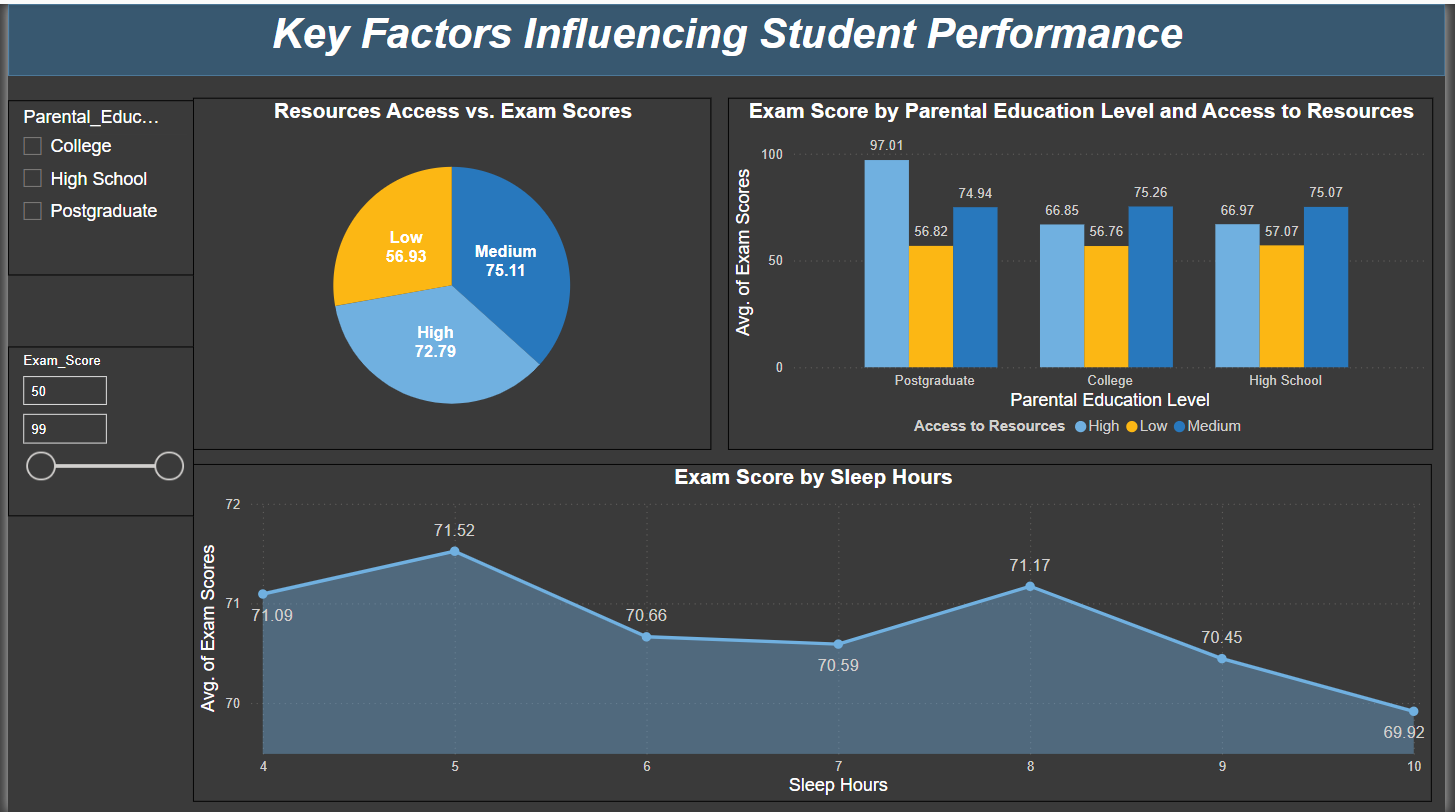

The page's visual inventory and layout, read from the dashboard file:
{"tool":"powerbi","page":{"name":"Page 1","canvas":[1280,720],"ordinal":0},"visuals":[{"type":"pieChart","title":"Resources Access vs. Exam Scores","fields":{"Category":["StudentPerformanceFactors - Dat.Access_to_Resources"],"Y":["Avg(StudentPerformanceFactors - Dat.Exam_Score)"]},"box":[165.1,83.7,461.6,314],"z":0},{"type":"lineChart","title":"Exam Score by Sleep Hours","fields":{"Y":["Avg(StudentPerformanceFactors - Dat.Exam_Score)"],"Category":["StudentPerformanceFactors - Dat.Sleep_Hours"]},"box":[165.1,409.3,1103.5,301.2],"z":1000},{"type":"clusteredColumnChart","title":"Exam Score by Parental Education Level and Access to Resources","fields":{"Category":["StudentPerformanceFactors - Dat.Parental_Education_Level"],"Y":["Avg(StudentPerformanceFactors - Dat.Exam_Score)"],"Series":["StudentPerformanceFactors - Dat.Access_to_Resources"]},"box":[641.3,83.4,627.8,313.3],"z":2000},{"type":"shape","title":"Key Factors Influencing Student Performance.","box":[0,0,1280.2,64.4],"z":3000},{"type":"textbox","box":[0,0,1280.2,64.4],"z":4000},{"type":"slicer","fields":{"Values":["StudentPerformanceFactors - Dat.Parental_Education_Level"]},"box":[0,85.7,165.3,155.6],"z":4001},{"type":"slicer","fields":{"Values":["StudentPerformanceFactors - Dat.Exam_Score"]},"box":[0,305.2,165.3,150.8],"z":4002}]}

Visuals, with their boxes in screenshot pixels (x1, y1, x2, y2), scaled from the page's 1280x720 canvas onto the 1455x812 screenshot:
"Resources Access vs. Exam Scores" pieChart: <box>188,94,712,449</box>
"Exam Score by Sleep Hours" lineChart: <box>188,462,1442,801</box>
"Exam Score by Parental Education Level and Access to Resources" clusteredColumnChart: <box>729,94,1443,447</box>
"Key Factors Influencing Student Performance." shape: <box>0,0,1454,73</box>
textbox: <box>0,0,1454,73</box>
slicer - StudentPerformanceFactors - Dat.Parental_Education_Level: <box>0,97,188,272</box>
slicer - StudentPerformanceFactors - Dat.Exam_Score: <box>0,344,188,514</box>
